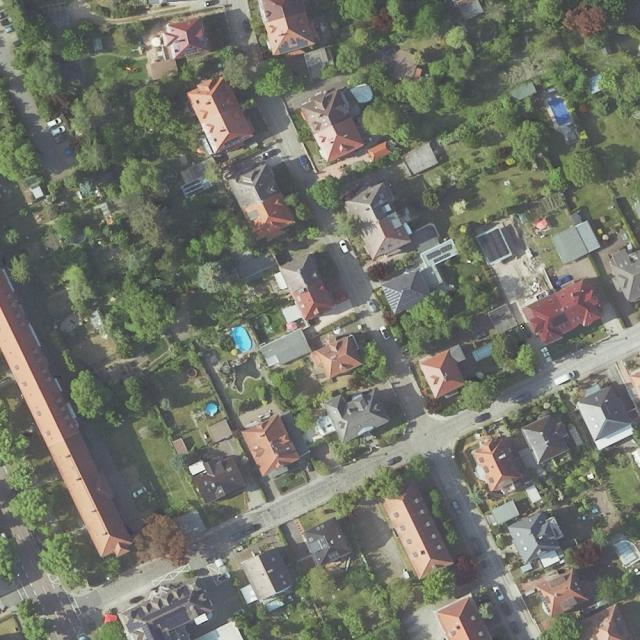PV: (137, 586, 190, 622), (478, 228, 509, 262), (153, 607, 191, 631), (279, 37, 310, 55), (127, 620, 154, 640), (219, 135, 250, 152), (427, 243, 453, 262), (186, 45, 197, 56)
ST: (551, 314, 567, 327), (311, 540, 323, 554), (248, 210, 259, 220), (174, 43, 179, 53)
